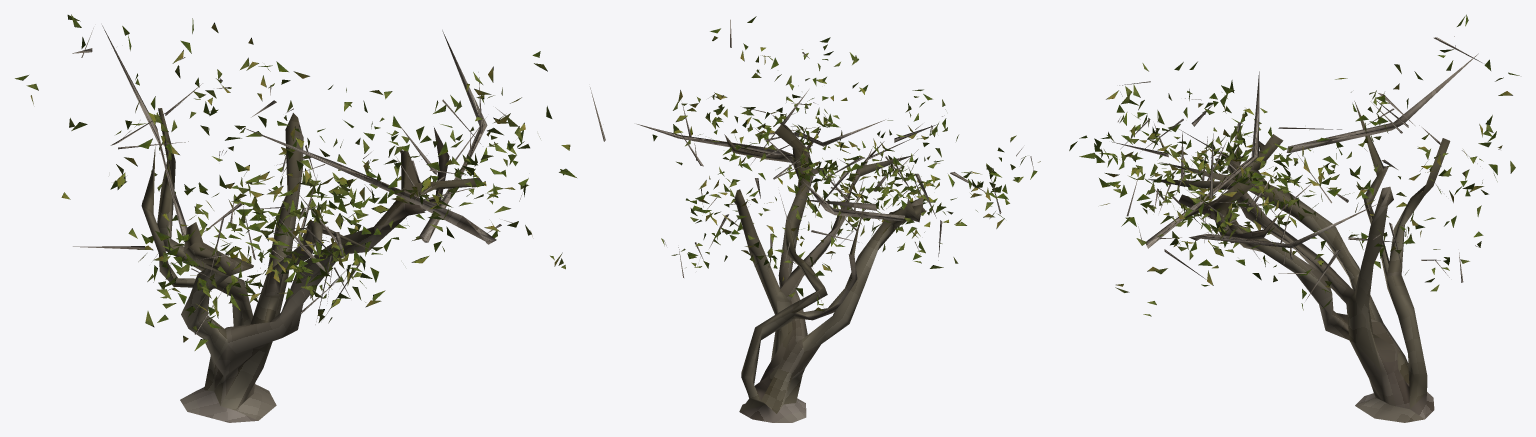
File: tree_jungle_far.glb
The picture shows the model from 3 angles, left to right: view 1: azimuth 30°, elevation 25°; view 2: azimuth 150°, elevation 25°; view 3: azimuth 270°, elevation 25°; orthographic projection. The views are drawn at different scales.
Visible parts, largest first — view 1: tree_jungle_far; view 2: tree_jungle_far; view 3: tree_jungle_far.
Boxes of the visible parts, x1,y1,x2,y2 form: tree_jungle_far: (15, 14, 605, 422); tree_jungle_far: (637, 16, 1040, 422); tree_jungle_far: (1069, 14, 1519, 422).
Bounding box in the file's own units: 3.77 × 3.35 × 4.06.
Materials: 3 (3 with a texture image).
